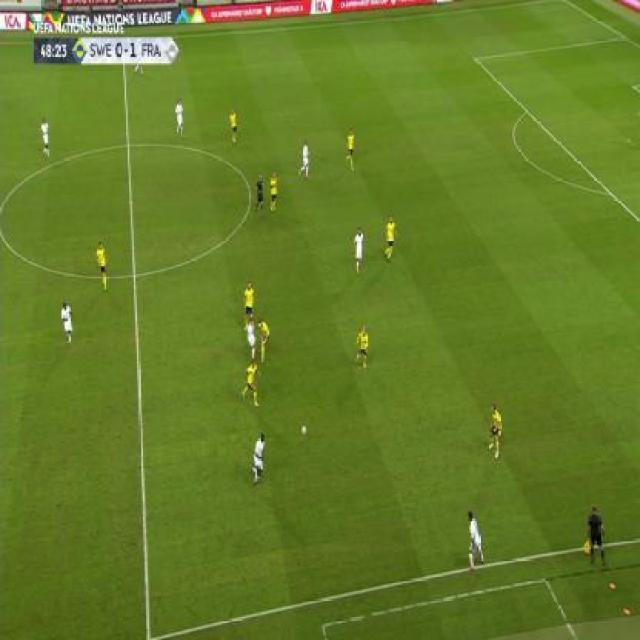ball: (301, 423, 307, 436)
player: (584, 502, 609, 567), (465, 509, 487, 572), (249, 430, 268, 489), (242, 355, 262, 408), (486, 403, 503, 460), (241, 278, 257, 331), (382, 214, 399, 263), (94, 239, 110, 290), (354, 324, 370, 370), (255, 316, 271, 362), (58, 299, 74, 344), (352, 226, 365, 275), (38, 117, 52, 159), (344, 125, 357, 170), (253, 171, 266, 216), (297, 139, 311, 179), (245, 318, 258, 360), (268, 170, 279, 212), (174, 96, 185, 136), (228, 107, 239, 143)
